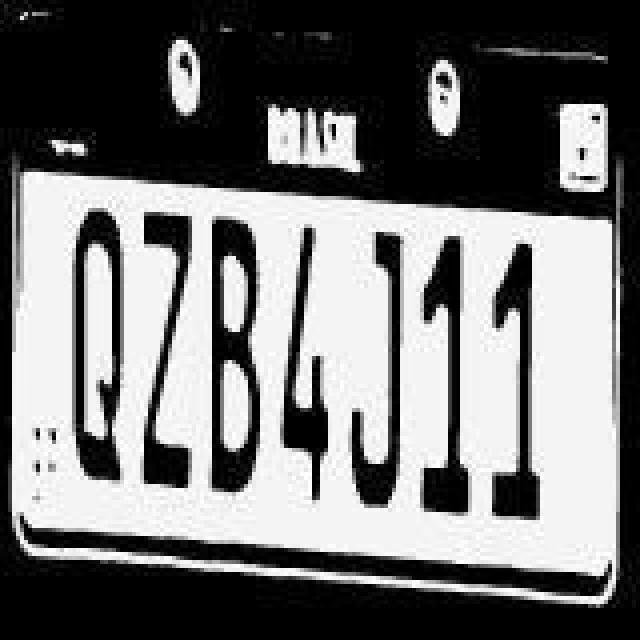1: (488, 234, 560, 526), (416, 226, 480, 526)
4: (280, 216, 344, 512)
B: (200, 210, 272, 494)
J: (344, 220, 408, 508)
Q: (64, 208, 136, 496)
Z: (128, 210, 192, 502)
